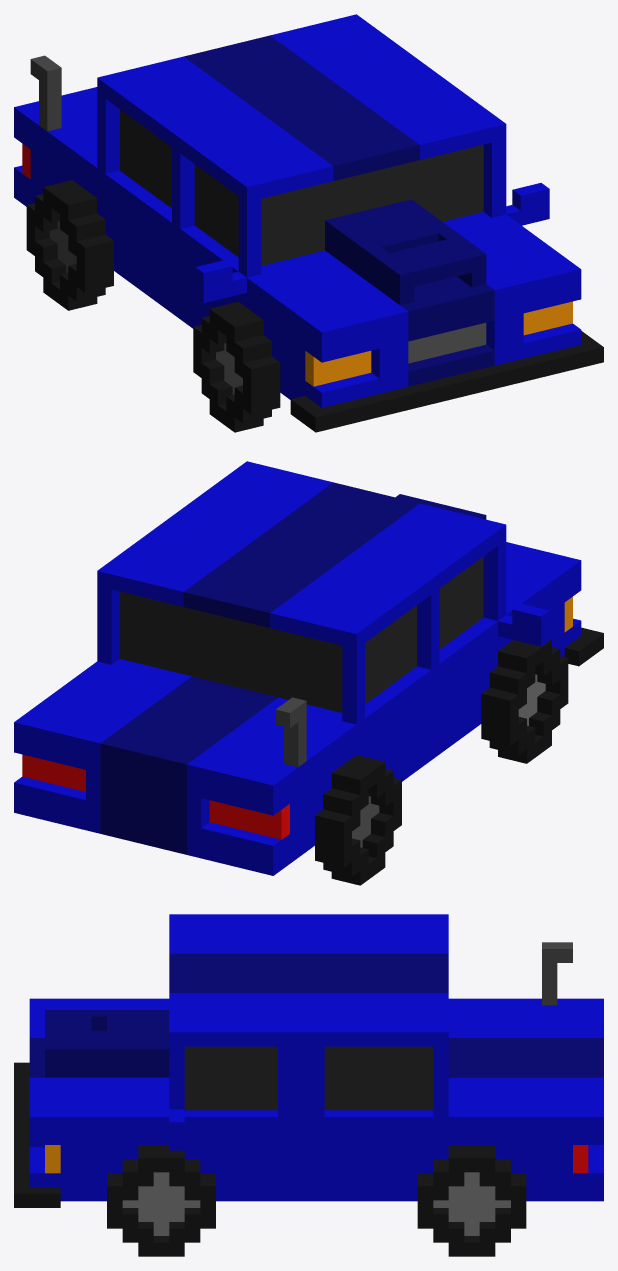
File: bluecarassets.vox.obj
The picture shows the model from 3 angles, top to bottom: view 1: azimuth 30°, elevation 25°; view 2: azimuth 150°, elevation 25°; view 3: azimuth 270°, elevation 25°; orthographic projection. The views are drawn at different scales.
Bounding box in the file's own units: 2.4 × 1.5 × 3.8.
Materials: 1 (1 with a texture image).
